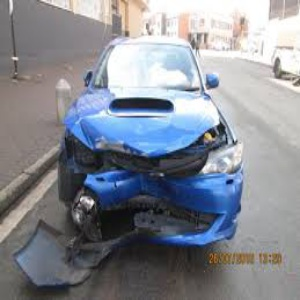bonnet: (73, 125, 192, 160)
bumper: (87, 170, 243, 248)
